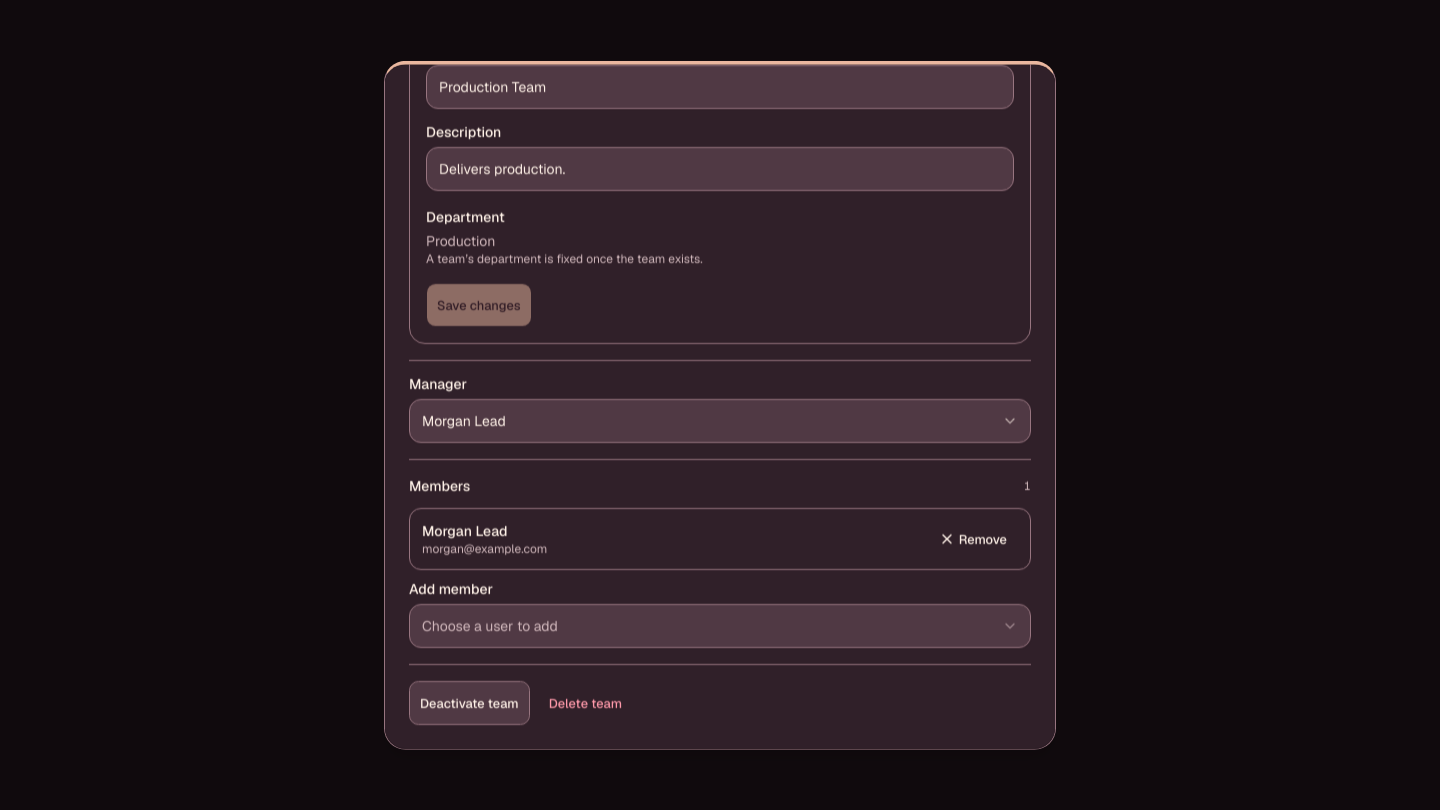
TeamDetailDialog › surfaces an in-use error when a delete is refused
(page scrolled)
expect the field showing "Production Team" is shown: met, box [426,65,1014,109]
Click the button "Delete team" at x=585, y=703, box [538,681,633,725]
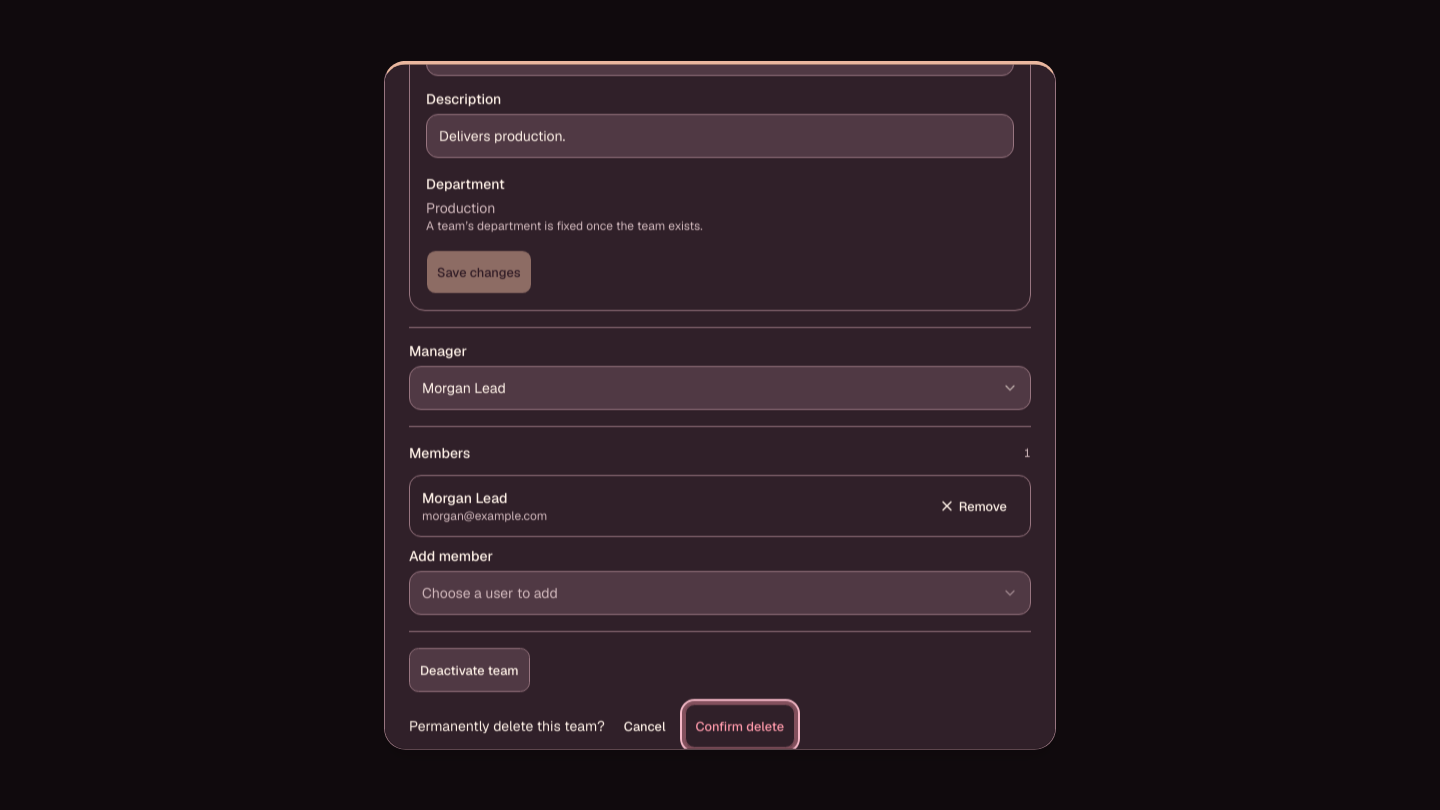
Click the button "Confirm delete" at x=740, y=726, box [684,704,795,748]
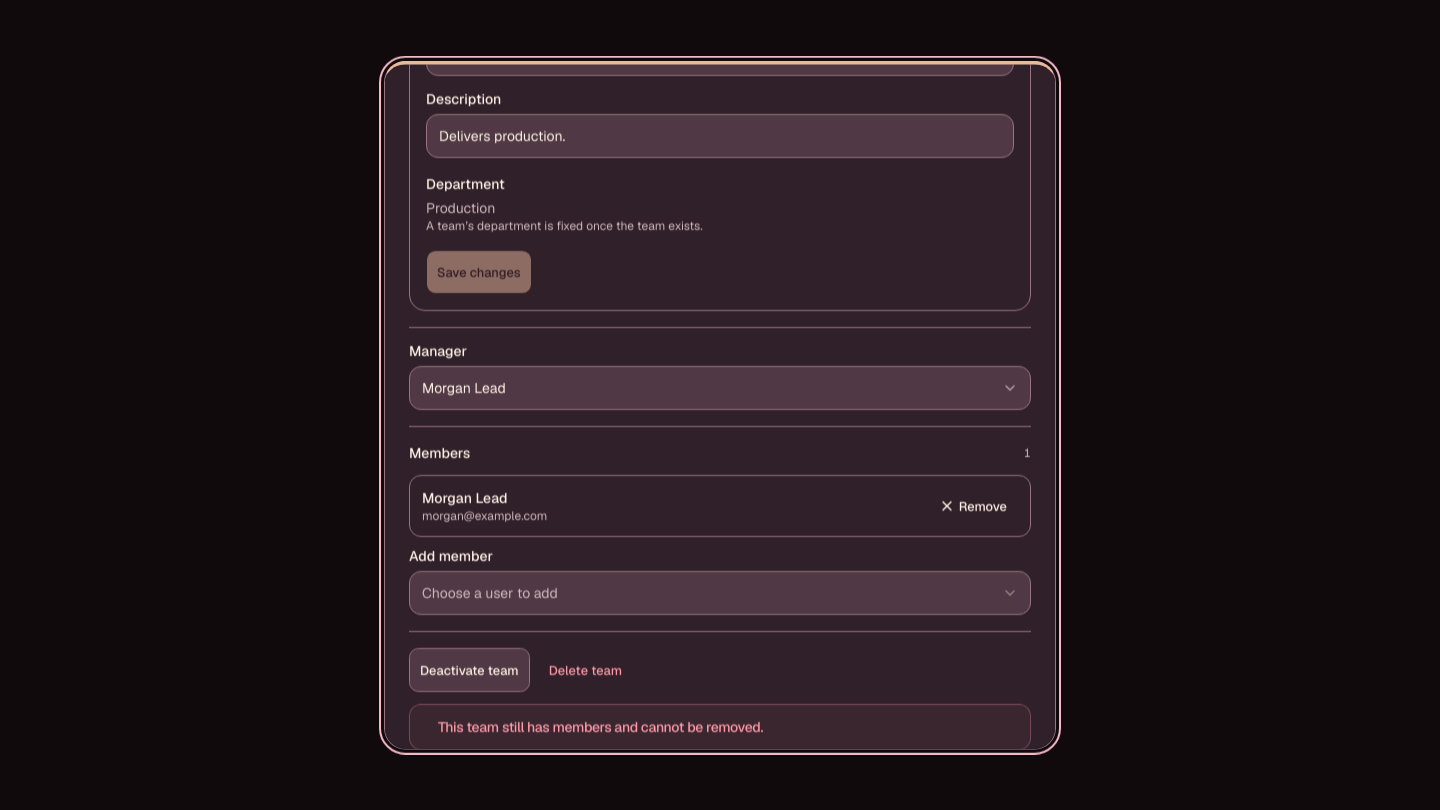
expect the text "This team still has members and cannot be removed." is shown: met, box [438,718,763,736]
